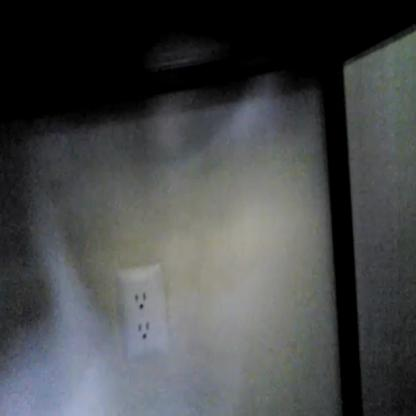OUTLET: (116, 264, 171, 366)
